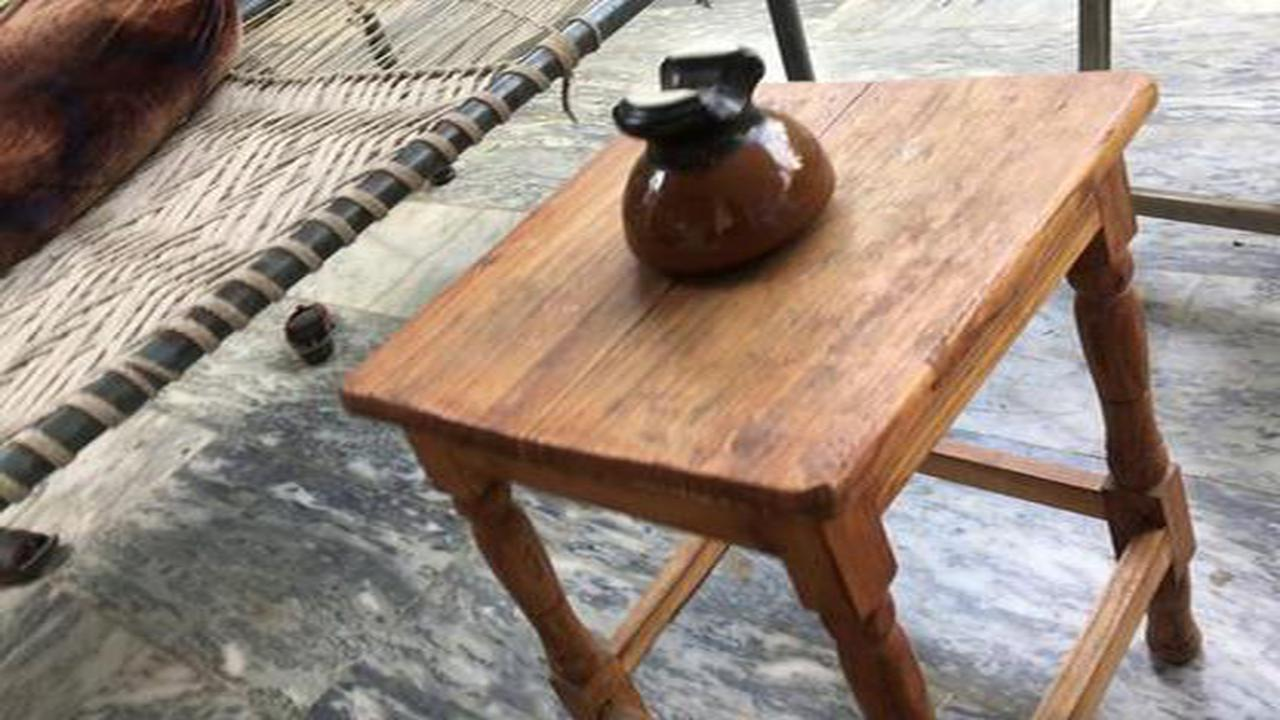insulator_pin: (588, 35, 844, 302)
